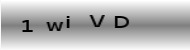1: (20, 19, 34, 33)
D: (113, 15, 129, 29)
V: (88, 14, 107, 28)
i: (65, 15, 71, 30)
w: (44, 21, 64, 32)
